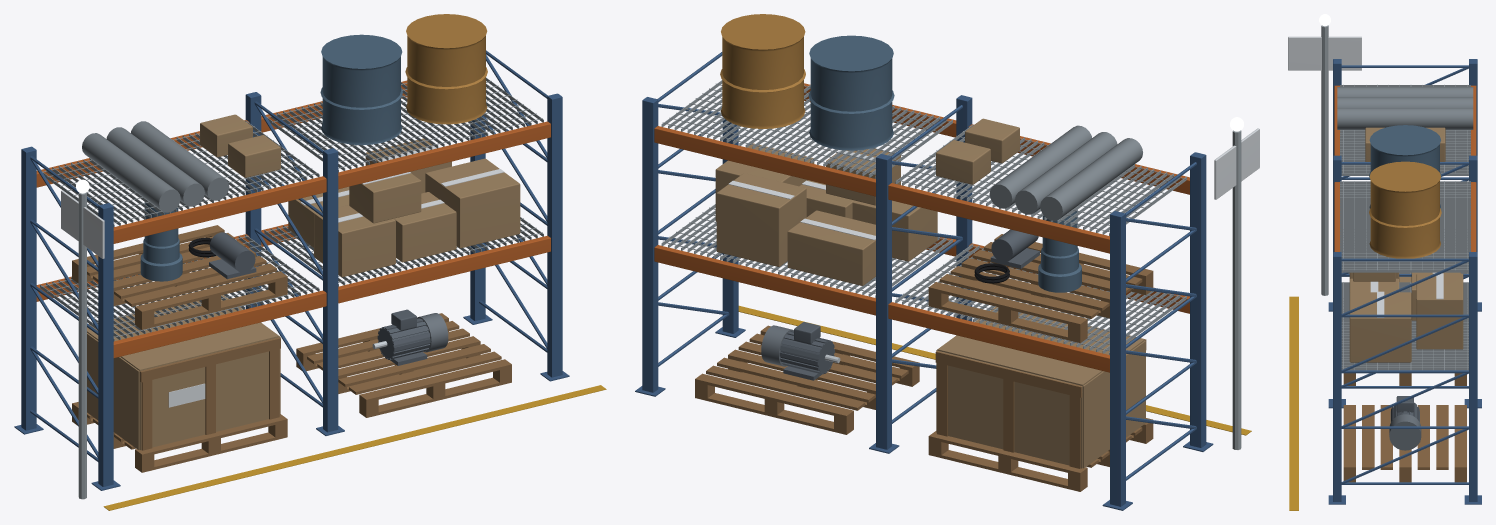
The model's file is spare_rack.glb.
3 renders of one model, left to right at view 1: azimuth 30°, elevation 25°; view 2: azimuth 150°, elevation 25°; view 3: azimuth 270°, elevation 25°, orthographic. The views are drawn at different scales.
Visible parts, largest first — view 1: BODY_frames, pallets, crate, cartons, BODY_beams, decks, rolls, drum, drum2, BODY_sign, floor_mark, spare_motor (+2 smaller); view 2: BODY_frames, pallets, crate, decks, BODY_beams, cartons, rolls, drum2, drum, BODY_sign, spare_motor, spare_sub (+2 smaller); view 3: decks, BODY_frames, cartons, drum, rolls, pallets, BODY_sign, drum2, floor_mark, BODY_beams, spare_motor.
Part boxes in pixels (x1,y1,x2,y2): BODY_frames: (14,50,569,490); pallets: (72,225,511,472); crate: (87,295,280,450); cartons: (288,138,520,277); BODY_beams: (36,80,550,357); decks: (40,77,543,341); rolls: (82,114,280,212); drum: (405,14,487,124); drum2: (320,34,402,145); BODY_sign: (61,190,104,499); floor_mark: (103,385,606,510); spare_motor: (372,309,448,365); BODY_frames: (635,52,1213,510); pallets: (695,234,1153,491); crate: (935,306,1146,468); decks: (661,80,1186,355); BODY_beams: (654,83,1189,372); cartons: (715,143,937,285); rolls: (936,118,1142,220); drum2: (808,35,894,150); drum: (720,14,805,128); BODY_sign: (1214,128,1259,449); spare_motor: (761,322,840,380); spare_sub: (974,210,1081,292); decks: (1340,84,1470,370); BODY_frames: (1328,59,1481,504); cartons: (1349,272,1463,362); drum: (1369,161,1441,258); rolls: (1337,87,1473,161); pallets: (1343,373,1466,482); BODY_sign: (1288,25,1361,295); drum2: (1369,125,1441,208); floor_mark: (1289,296,1298,510); BODY_beams: (1334,85,1476,251); spare_motor: (1389,396,1421,450).
Bounding box in the file's own units: 4.2 × 2.62 × 1.57.
